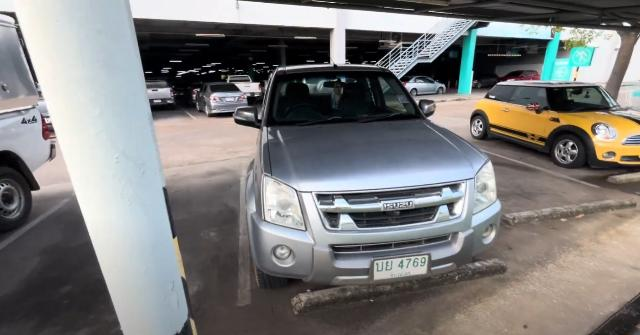pickup-truck: (234, 65, 502, 290)
